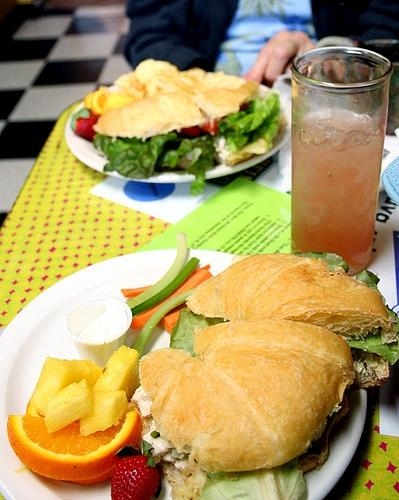carrot: (130, 269, 214, 329), (120, 264, 211, 298)
celery: (125, 232, 188, 310), (132, 289, 196, 360), (132, 257, 200, 317)
lettuce: (347, 270, 399, 366), (200, 456, 307, 500), (212, 92, 280, 150), (104, 132, 177, 178), (170, 306, 230, 358), (157, 135, 216, 169), (289, 250, 349, 274), (188, 157, 215, 196)
orange: (6, 411, 142, 481), (62, 456, 124, 485), (84, 92, 96, 109)
pineapple: (30, 356, 104, 417), (92, 345, 141, 403), (44, 378, 94, 434), (79, 390, 128, 436), (102, 92, 136, 113)
strawberry: (110, 440, 160, 499), (70, 107, 100, 142), (180, 126, 211, 138), (201, 118, 218, 137), (240, 103, 250, 111)
